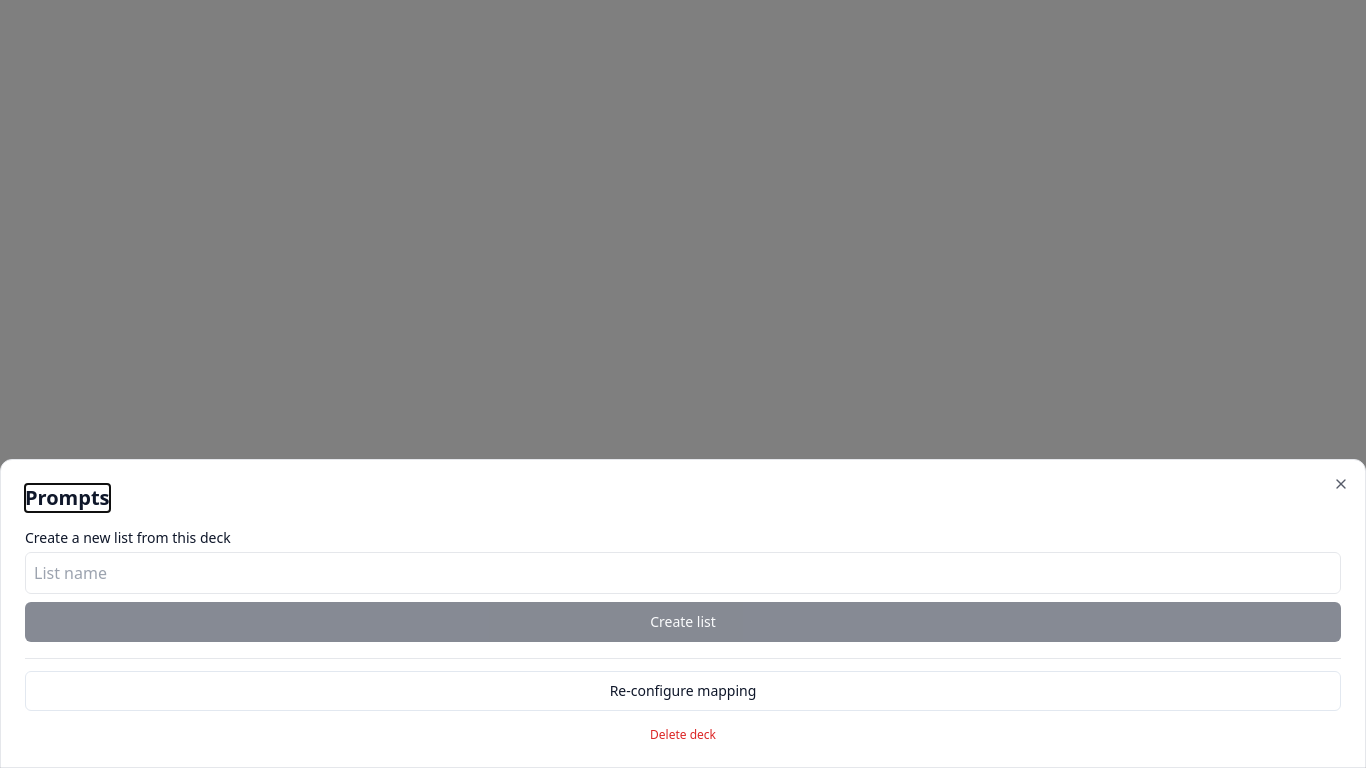
Test: DeckDetailSheet › shows referencing-list count in delete confirmation
What coordinates should you click on to do the following:
click the button "Delete deck"
I would click on:
 (683, 731)
Its box is [25,719,1341,743].
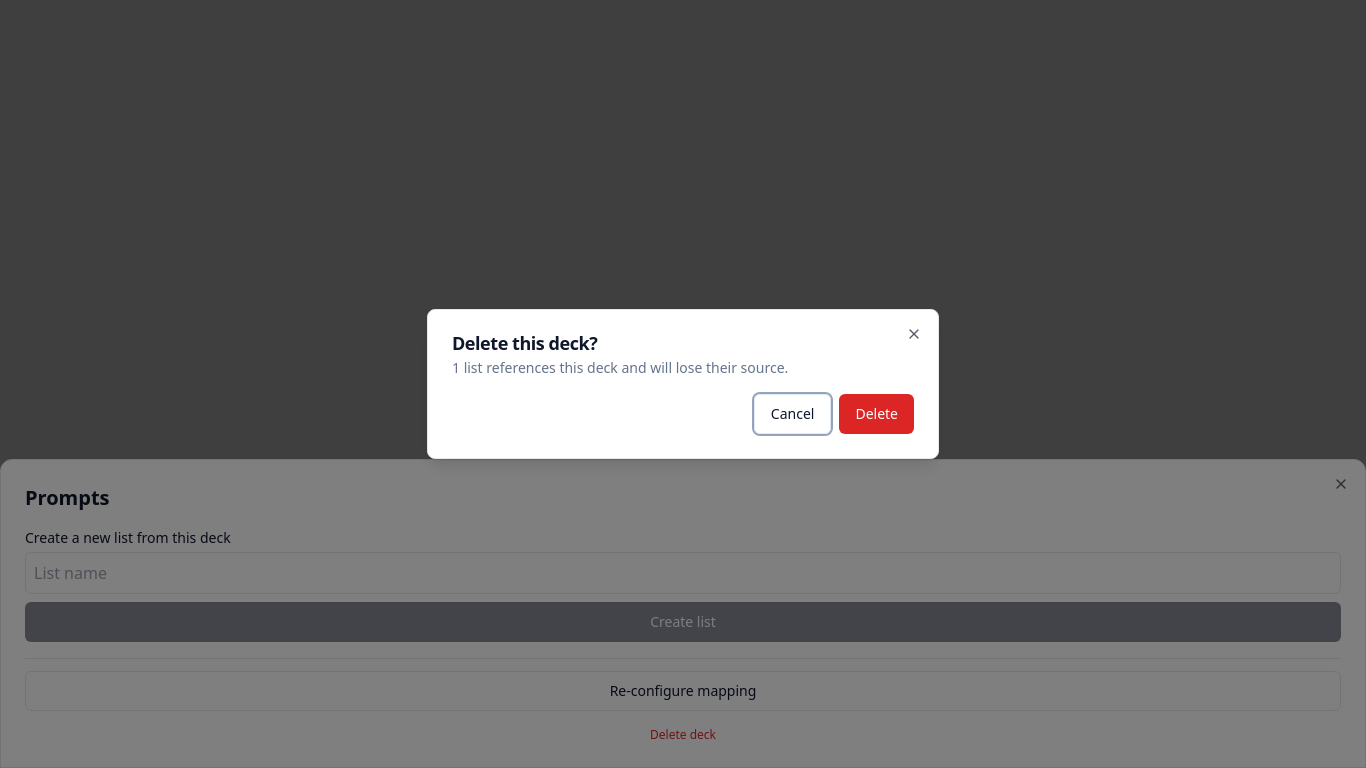
Expected: the text "1 list references this deck and will lose their source." is shown, [452,358,788,377]
